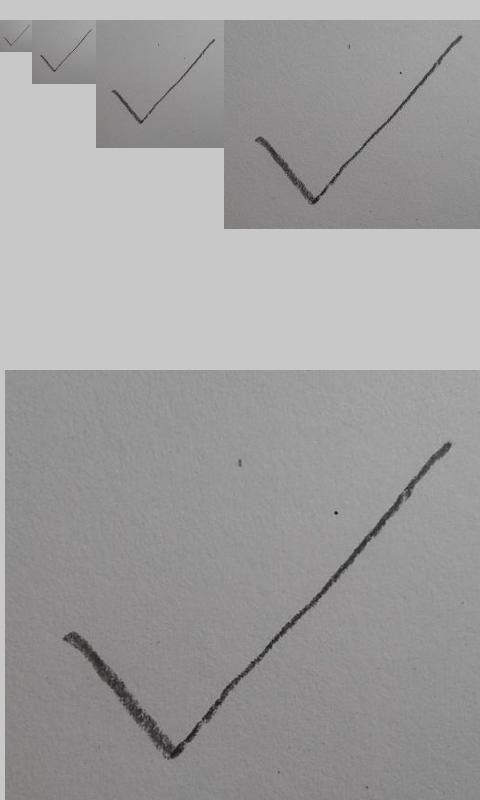check_box: (65, 446, 448, 761), (256, 36, 461, 204), (112, 39, 215, 124), (40, 28, 91, 72), (3, 25, 30, 46)
